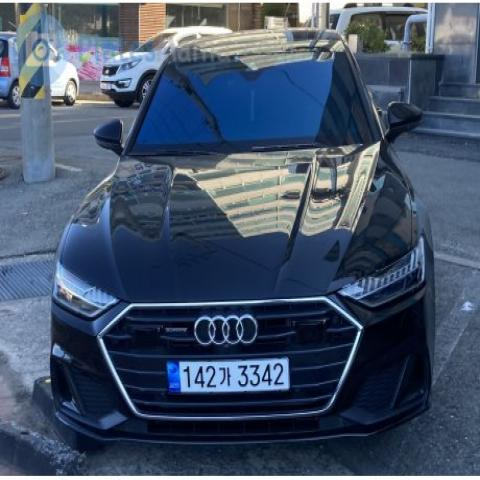LP: (158, 357, 298, 401)
